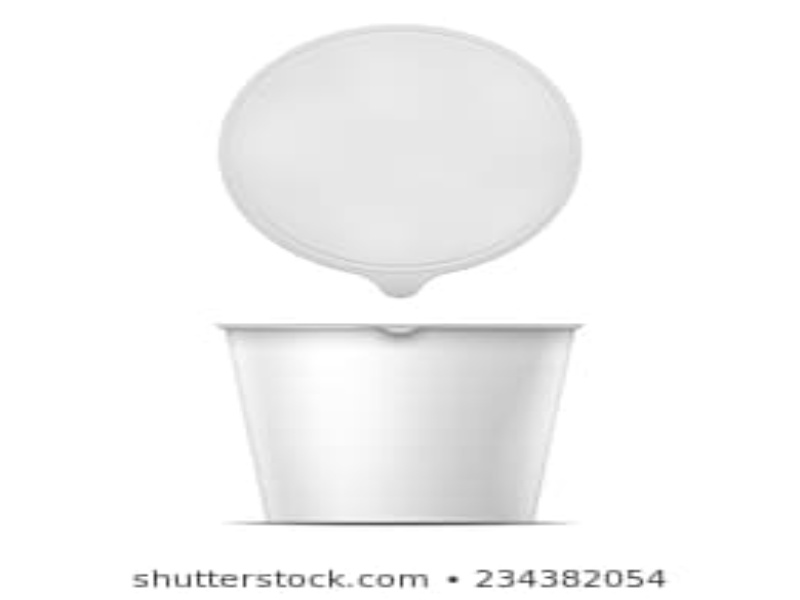yogurt-cup: (212, 313, 597, 532)
